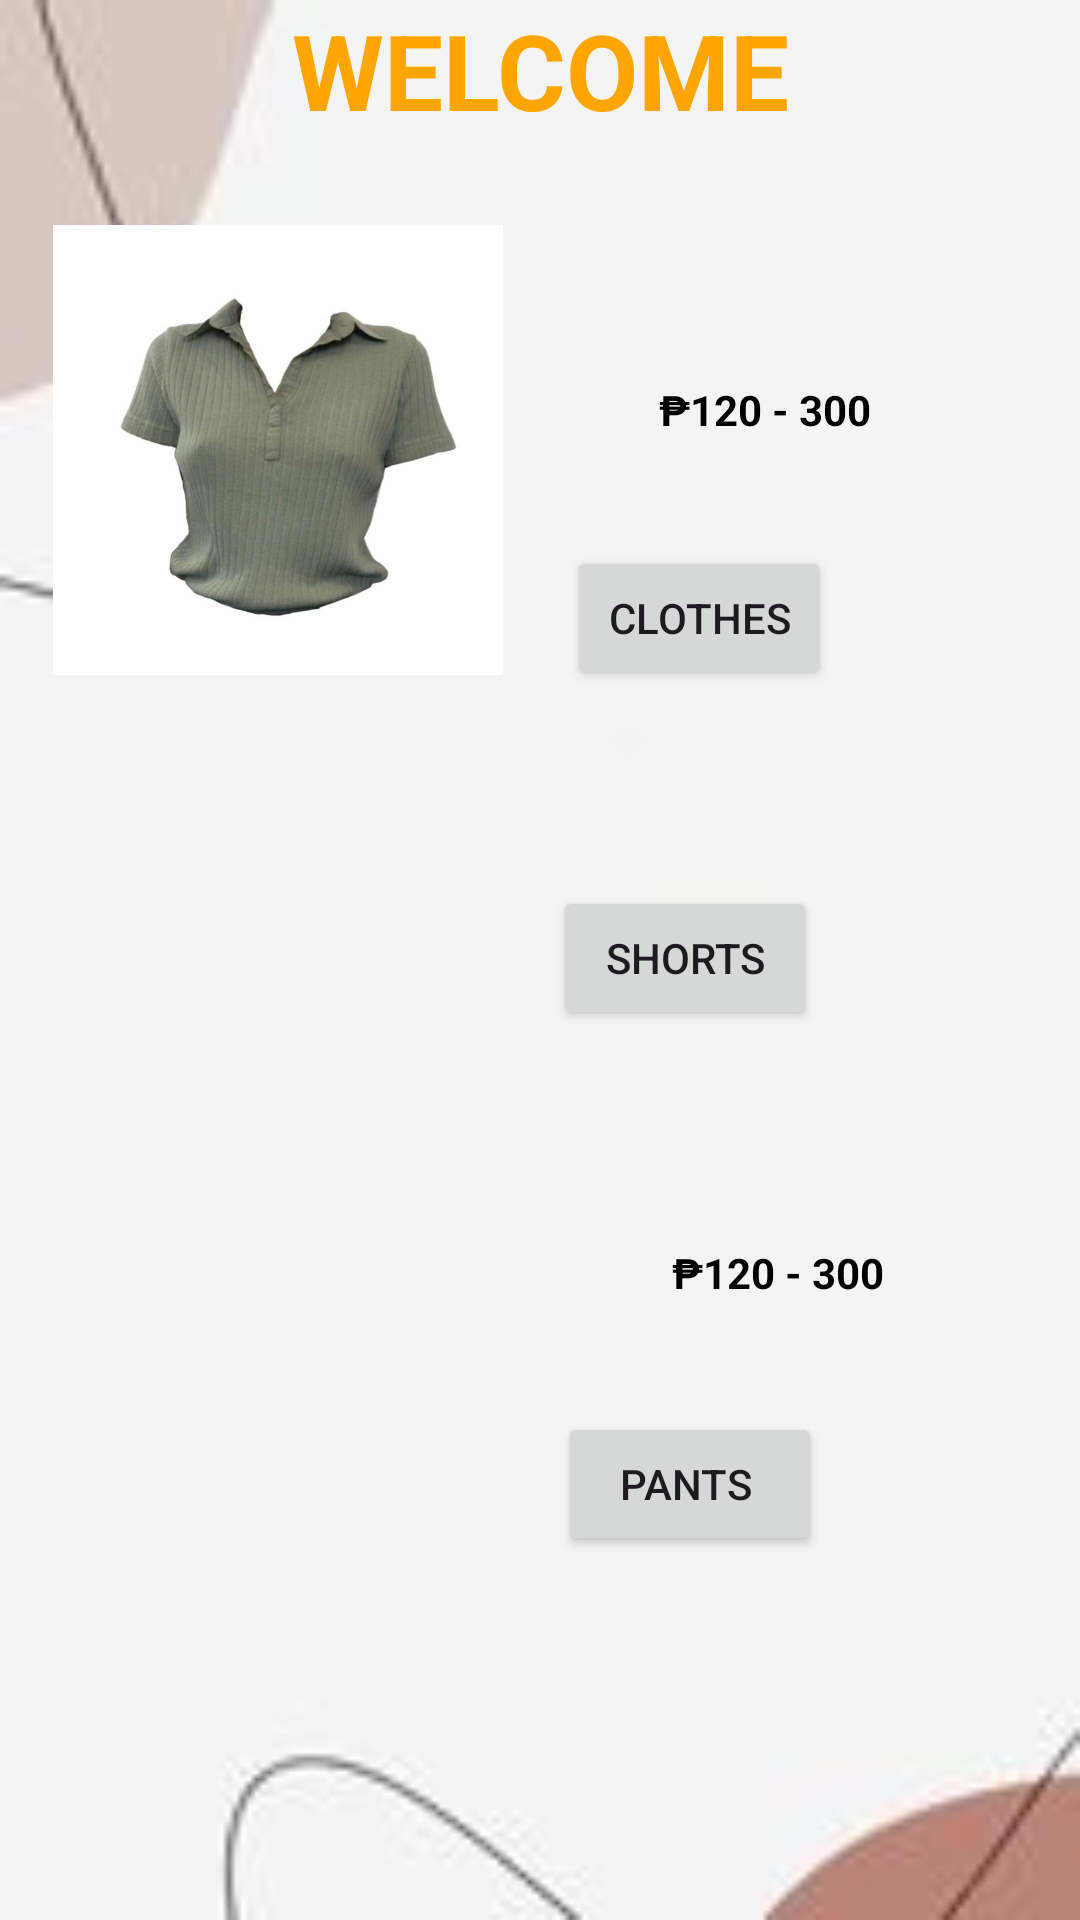

Icons on this 1080 x 1920 Android screen, each with the point to tap as point (x, y):
blouse shirt: point (288, 457)
